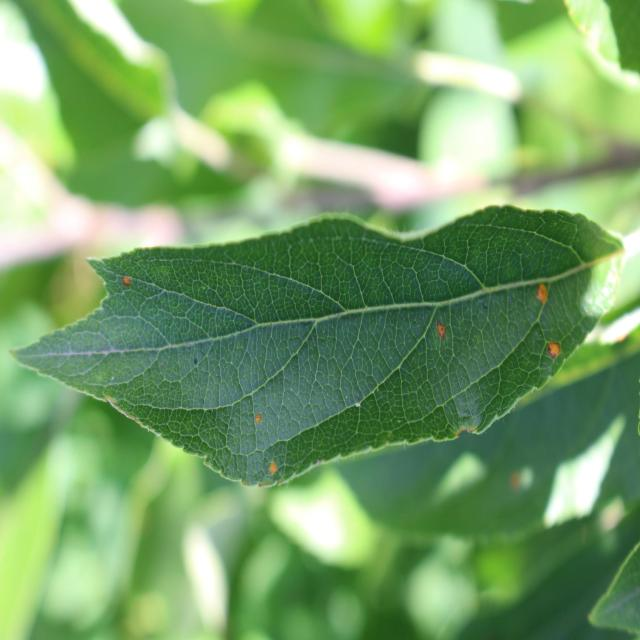rust: (9, 203, 623, 490)
